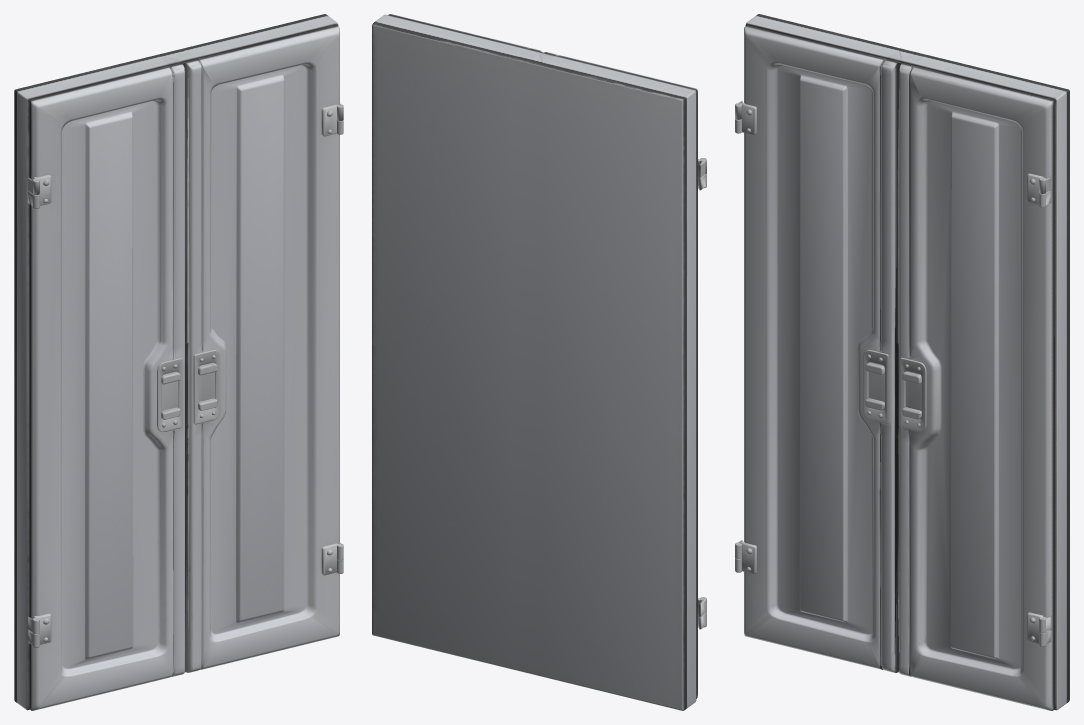
Rendered from tripo_convert_935181e1-040c-498d-bb95-992525a8b275.fbx.
The picture shows the model from 3 angles, left to right: view 1: azimuth 30°, elevation 25°; view 2: azimuth 150°, elevation 25°; view 3: azimuth 330°, elevation 25°; orthographic projection.
Parts seen in each view (by area): view 1: tripo_part_2, tripo_part_3, tripo_part_4, tripo_part_10, tripo_part_9; view 2: tripo_part_4, tripo_part_2; view 3: tripo_part_3, tripo_part_2, tripo_part_4, tripo_part_10, tripo_part_9, tripo_part_32.
Boxes of the visible parts, x1=… form: tripo_part_2: x1=29, y1=62, x2=184, y2=710; tripo_part_3: x1=181, y1=25, x2=339, y2=672; tripo_part_4: x1=14, y1=14, x2=338, y2=710; tripo_part_10: x1=193, y1=350, x2=220, y2=424; tripo_part_9: x1=157, y1=358, x2=182, y2=431; tripo_part_4: x1=372, y1=14, x2=696, y2=710; tripo_part_2: x1=543, y1=52, x2=697, y2=698; tripo_part_3: x1=895, y1=61, x2=1054, y2=710; tripo_part_2: x1=744, y1=25, x2=900, y2=672; tripo_part_4: x1=745, y1=14, x2=1069, y2=710; tripo_part_10: x1=899, y1=357, x2=926, y2=431; tripo_part_9: x1=863, y1=349, x2=888, y2=423; tripo_part_32: x1=895, y1=68, x2=896, y2=666.
Size of the model in its own units: 0.5366 by 0.9995 by 0.0688.
Materials: 1 (1 with a texture image).
